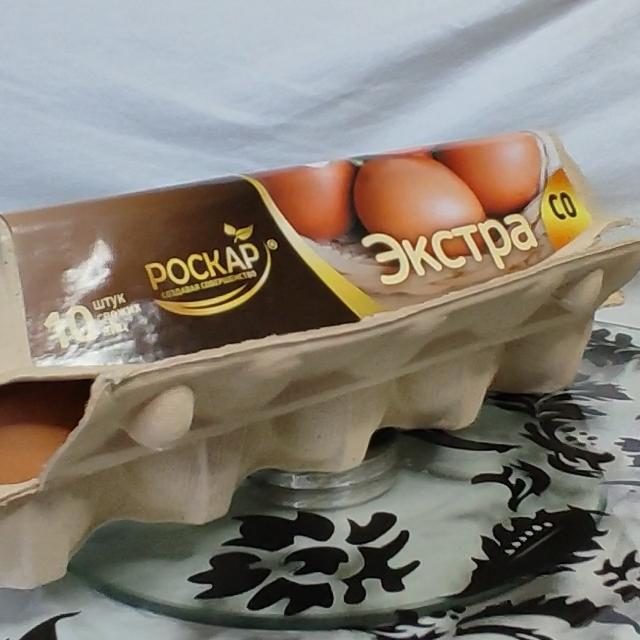egg: (0, 76, 633, 586)
